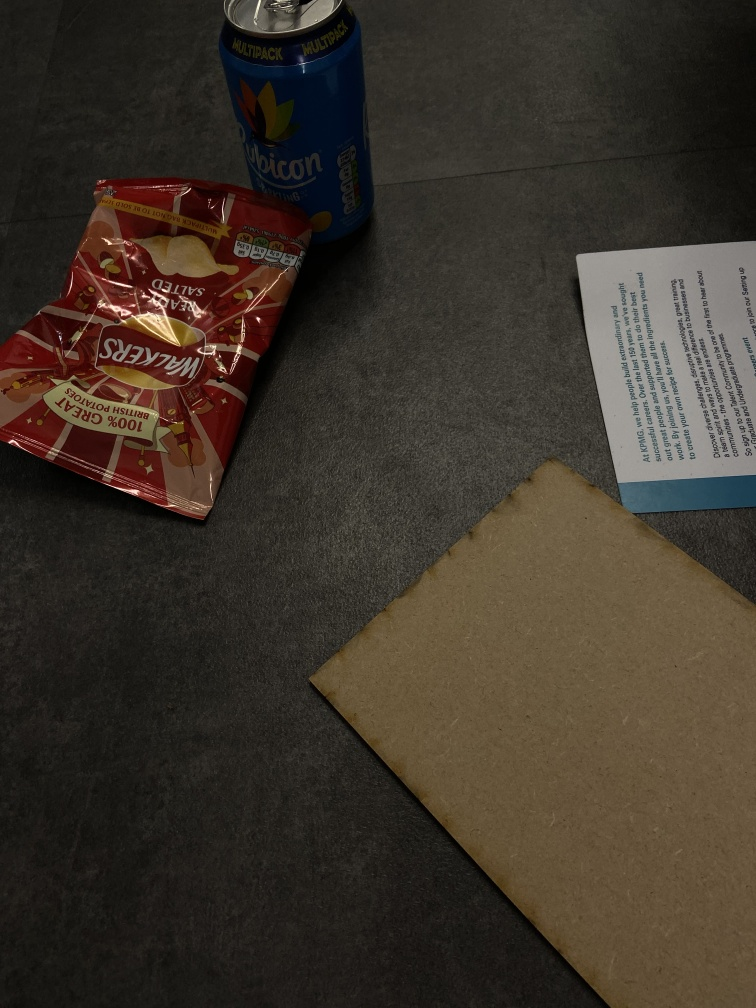can_blue: (217, 1, 379, 261)
